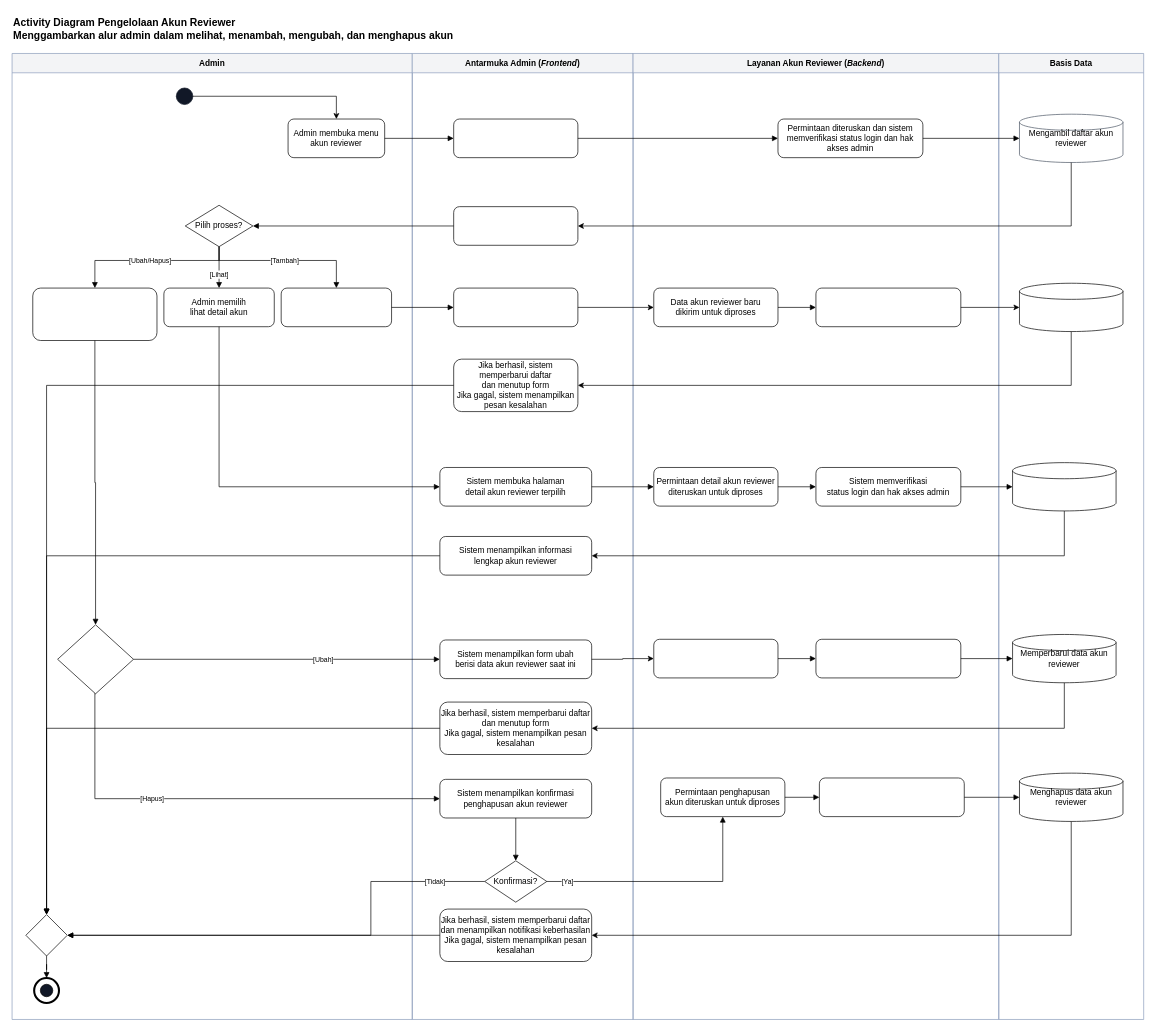
The diagram is 1156 pixels wide and 1032 high, and some of its shapes have lost their labels. Each missing label, with the centre of its shape:
"Admin memilih akun reviewer yang ingin diubah atau dihapus" belongs at [94,314].
"Admin memilih tambah akun reviewer" belongs at [336,307].
"Mengambil detail satu akun reviewer" belongs at [1064,486].
"Menyimpan data akun reviewer baru" belongs at [1071,307].
"Perubahan data akun reviewer diteruskan untuk diproses" belongs at [715,658].
"Sistem memproses dan memvalidasi data akun reviewer baru" belongs at [888,307].
"Sistem memproses dan memvalidasi penghapusan akun reviewer" belongs at [891,797].
"Sistem memproses dan memvalidasi perubahan data akun reviewer" belongs at [888,658].
"Sistem memuat permintaan daftar akun reviewer" belongs at [515,138].
"Sistem menampilkan daftar akun reviewer" belongs at [515,225].
"Sistem menampilkan form pendaftaran akun reviewer" belongs at [515,307].
"Ubah atau Hapus?" belongs at [95,659].
